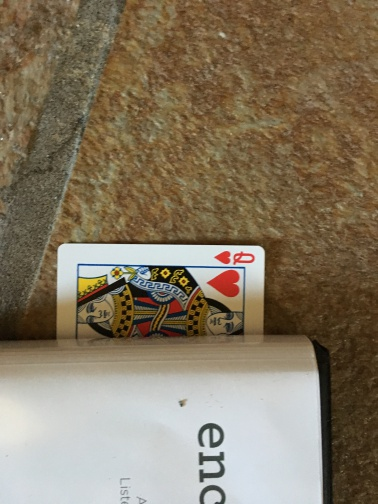queen: (53, 240, 266, 341)
